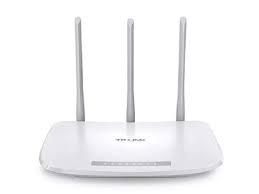Router: (38, 16, 223, 178)
